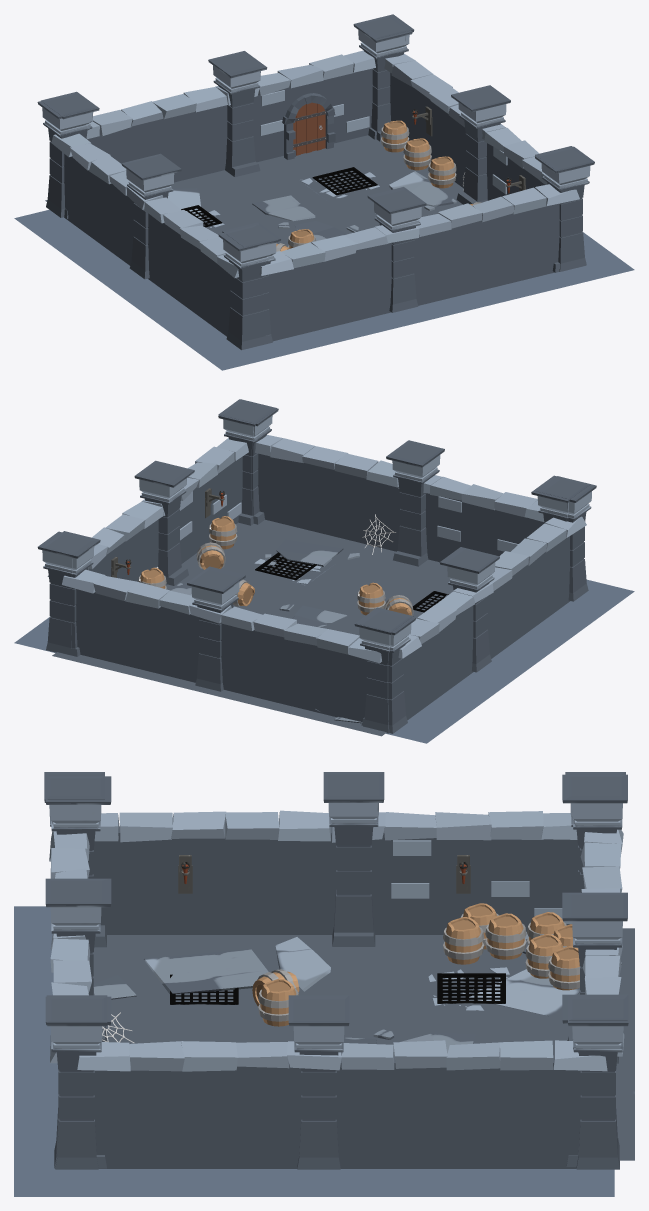
The model's file is Room4.fbx.
3 views of the same model, one above another, from view 1: azimuth 30°, elevation 25°; view 2: azimuth 150°, elevation 25°; view 3: azimuth 270°, elevation 25° (orthographic). The views are drawn at different scales.
Visible parts, largest first — view 1: Cube.010, Plane.020, Plane.038, Cube.005, Plane.001, Cylinder.003, Cylinder.013, Cylinder.009; view 2: Cube.010, Plane.020, Plane.038, Plane.009, Cylinder.015, Cylinder.014, Cylinder.016; view 3: Cube.010, Plane.020, Plane.038, Plane.002, Cylinder.011, Cylinder.004, Cylinder.014, Cylinder.008, Cylinder.007, Plane.003, Cylinder.002, Cylinder.006 (+1 smaller).
Boxes of the visible parts, box(x1,y1,x2,y2) form: Cube.010: box(37, 14, 594, 350); Plane.020: box(45, 135, 463, 246); Plane.038: box(14, 209, 634, 370); Cube.005: box(282, 93, 335, 159); Plane.001: box(299, 167, 389, 201); Cylinder.003: box(403, 138, 431, 170); Cylinder.013: box(428, 156, 456, 188); Cylinder.009: box(381, 120, 409, 152); Cube.010: box(37, 399, 596, 733); Plane.020: box(52, 519, 453, 736); Plane.038: box(14, 579, 634, 743); Plane.009: box(241, 548, 335, 585); Cylinder.015: box(209, 516, 237, 549); Cylinder.014: box(357, 582, 385, 615); Cylinder.016: box(196, 542, 225, 569); Cube.010: box(44, 772, 628, 1169); Plane.020: box(93, 928, 634, 1160); Plane.038: box(14, 906, 614, 1196); Plane.002: box(427, 967, 511, 1013); Cylinder.011: box(443, 917, 484, 964); Cylinder.004: box(485, 913, 526, 959); Cylinder.014: box(258, 978, 298, 1026); Cylinder.008: box(548, 946, 579, 990); Cylinder.007: box(525, 934, 564, 978); Plane.003: box(170, 974, 238, 1004); Cylinder.002: box(527, 912, 566, 945); Cylinder.006: box(461, 903, 498, 949).
Bounding box in the file's own units: 9510 × 2410 × 8592.
Materials: 30 (29 with a texture image).
